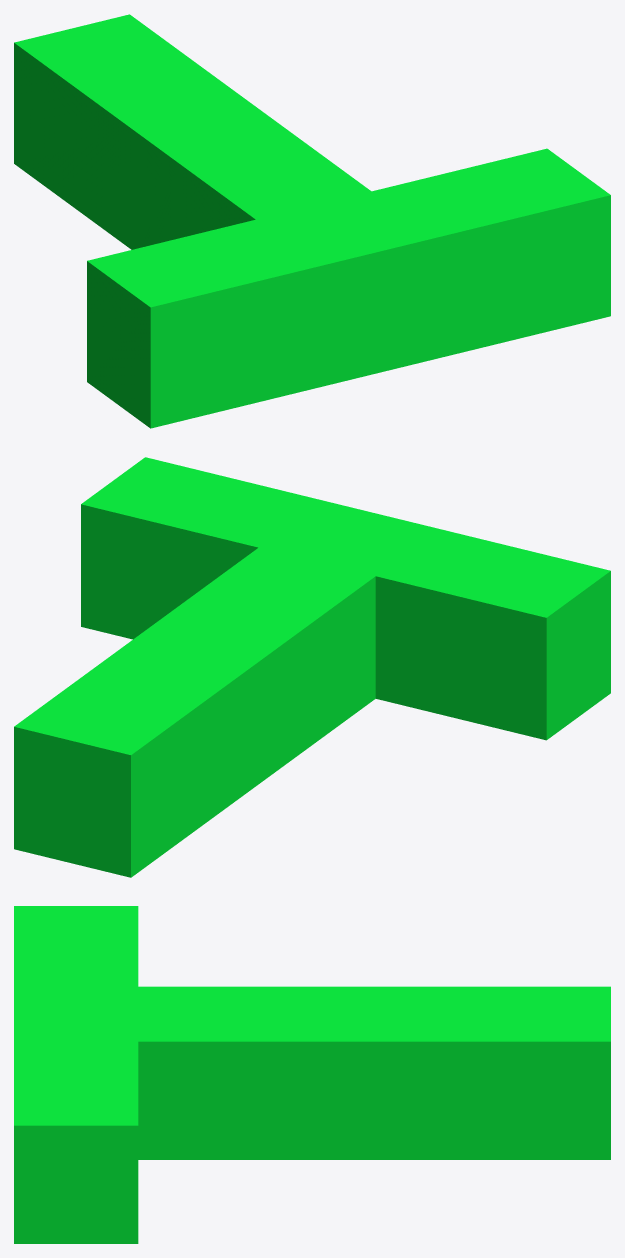
The model's file is LetterT.obj.
3 renders of one model, top to bottom at view 1: azimuth 30°, elevation 25°; view 2: azimuth 150°, elevation 25°; view 3: azimuth 270°, elevation 25°, orthographic. The views are drawn at different scales.
Visible parts, largest first — view 1: LetterT; view 2: LetterT; view 3: LetterT.
Part boxes in pixels (x1,y1,x2,y2): LetterT: (14, 14, 610, 428); LetterT: (14, 457, 610, 877); LetterT: (14, 906, 610, 1243).
Size of the model in its own units: 3.98 by 1 by 4.57.
